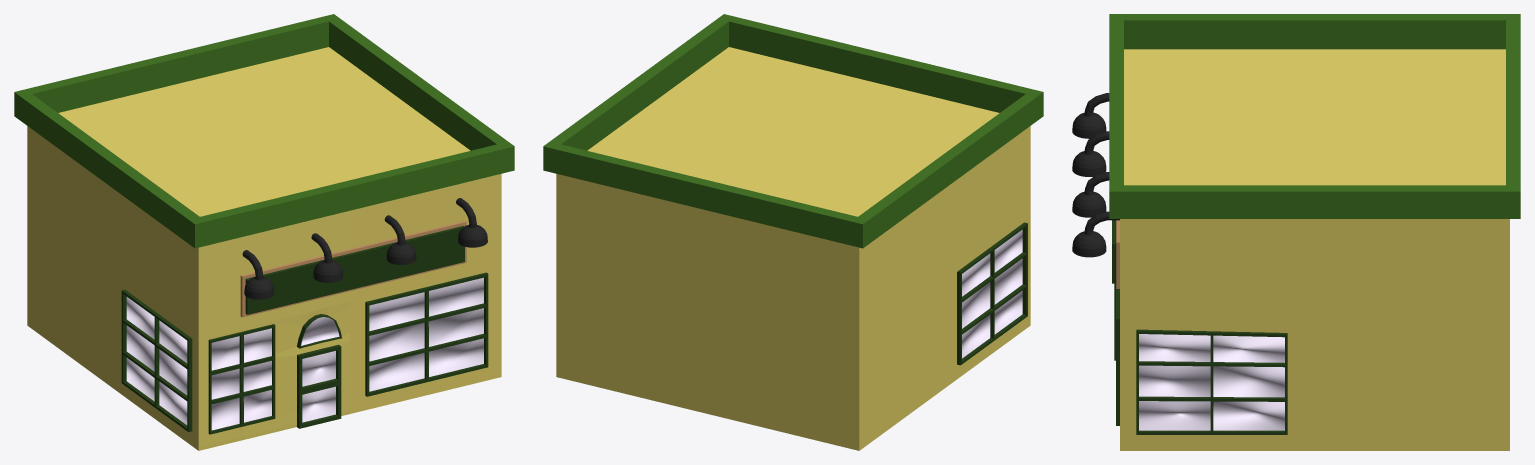
The model's file is Cafe_Building Yellow.fbx.
3 views of the same model, side by side, from view 1: azimuth 30°, elevation 25°; view 2: azimuth 150°, elevation 25°; view 3: azimuth 270°, elevation 25° (orthographic). The views are drawn at different scales.
Parts seen in each view (by area): view 1: Plane.022; view 2: Plane.022; view 3: Plane.022.
Part boxes in pixels (x1=…): Plane.022: x1=14, y1=14, x2=514, y2=450; Plane.022: x1=543, y1=14, x2=1043, y2=450; Plane.022: x1=1072, y1=14, x2=1520, y2=450.
Bounding box in the file's own units: 4286 × 2973 × 4576.
